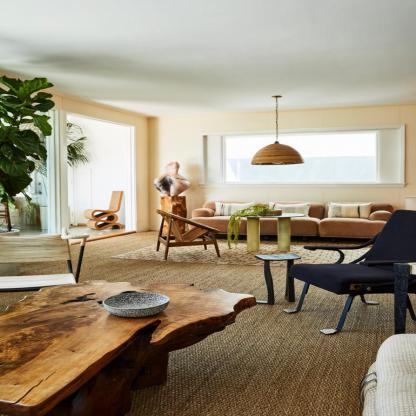chair: (279, 192, 416, 339), (0, 225, 91, 292), (77, 170, 136, 239), (155, 208, 225, 264)
light: (247, 90, 307, 172)
sofa: (192, 194, 411, 240)
table: (0, 281, 255, 416), (250, 252, 299, 308)
